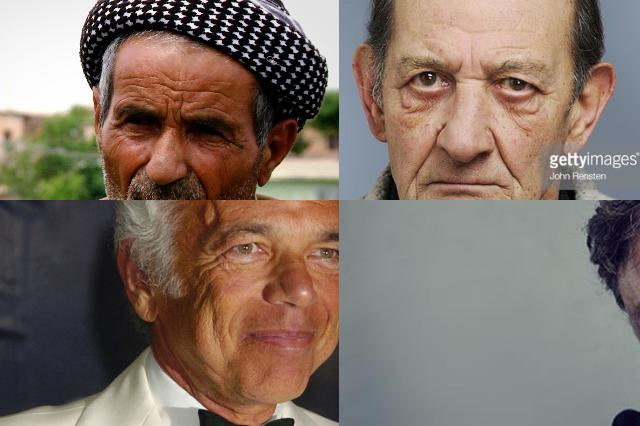crows_feet: (198, 248, 220, 278), (391, 77, 409, 103), (107, 114, 123, 139), (222, 130, 240, 152), (534, 87, 552, 103)
forehead: (442, 22, 488, 38), (124, 72, 146, 102), (190, 84, 228, 101), (494, 40, 530, 56), (160, 77, 184, 97), (190, 101, 222, 115), (298, 200, 326, 212)
frown_line: (164, 103, 184, 124), (466, 46, 476, 70), (452, 58, 464, 76)
gummy_smile: (418, 132, 438, 177), (491, 135, 512, 171), (125, 159, 147, 187), (318, 304, 334, 338), (223, 310, 239, 340), (190, 169, 208, 194)
masseter: (207, 307, 227, 353)
sad_smile: (405, 185, 425, 200), (504, 190, 517, 200)
